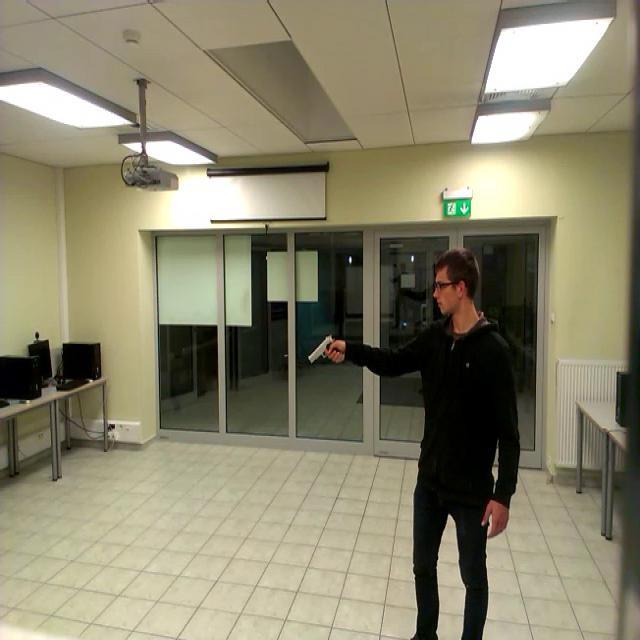Gun: (306, 333, 341, 362)
